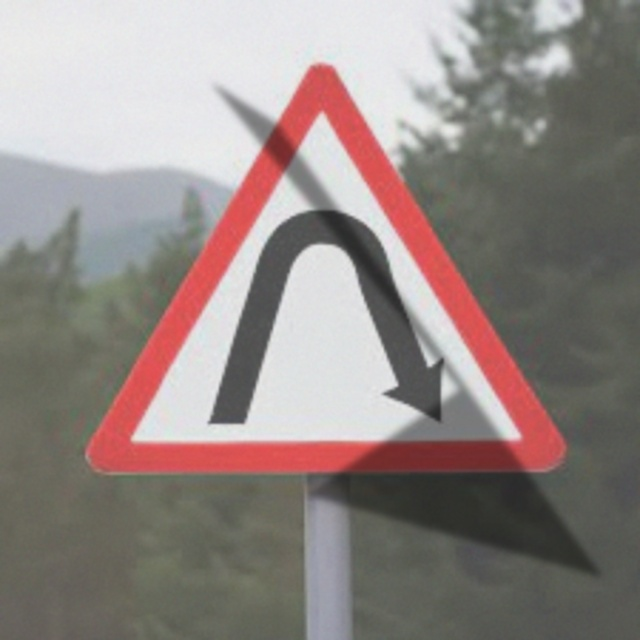Right_Hair_Pin_Bend: (91, 65, 558, 467)
